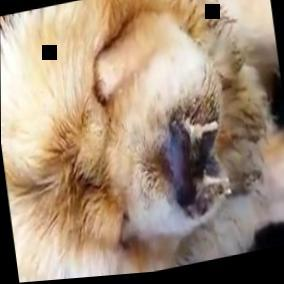nasal_discharge: (161, 116, 236, 217)
